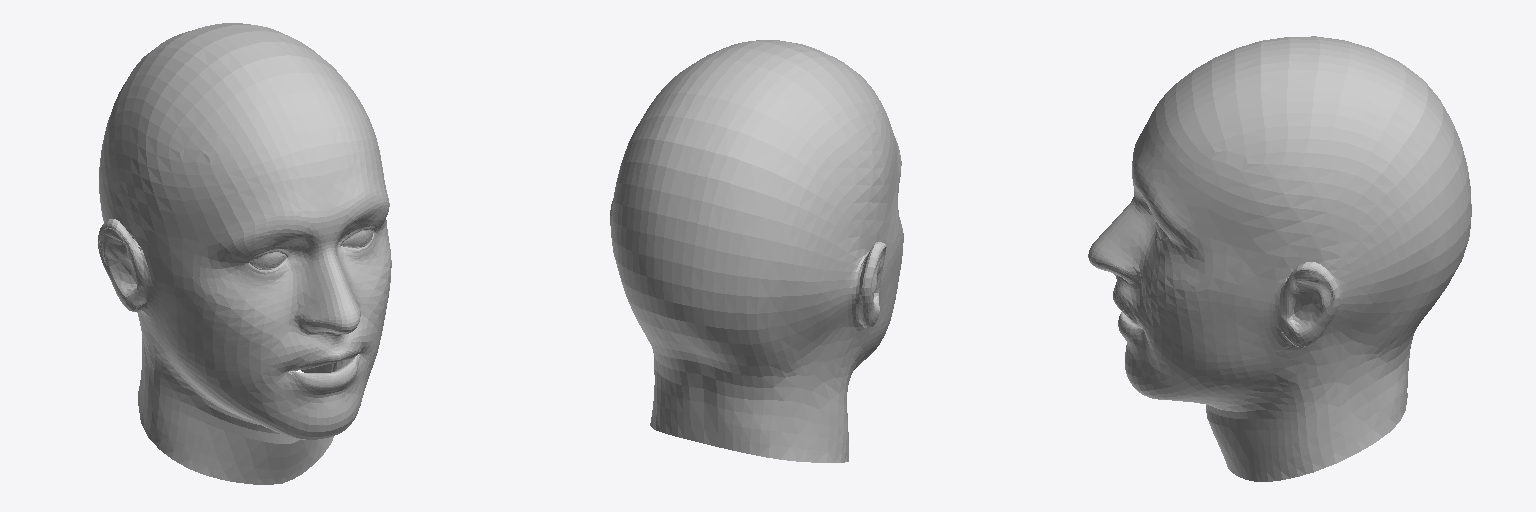
Rendered from MaleFace_ExpressionSurprise.obj.
The picture shows the model from 3 angles: view 1: azimuth 30°, elevation 25°; view 2: azimuth 150°, elevation 25°; view 3: azimuth 270°, elevation 25°; orthographic projection.
Size of the model in its own units: 189 by 285 by 238.